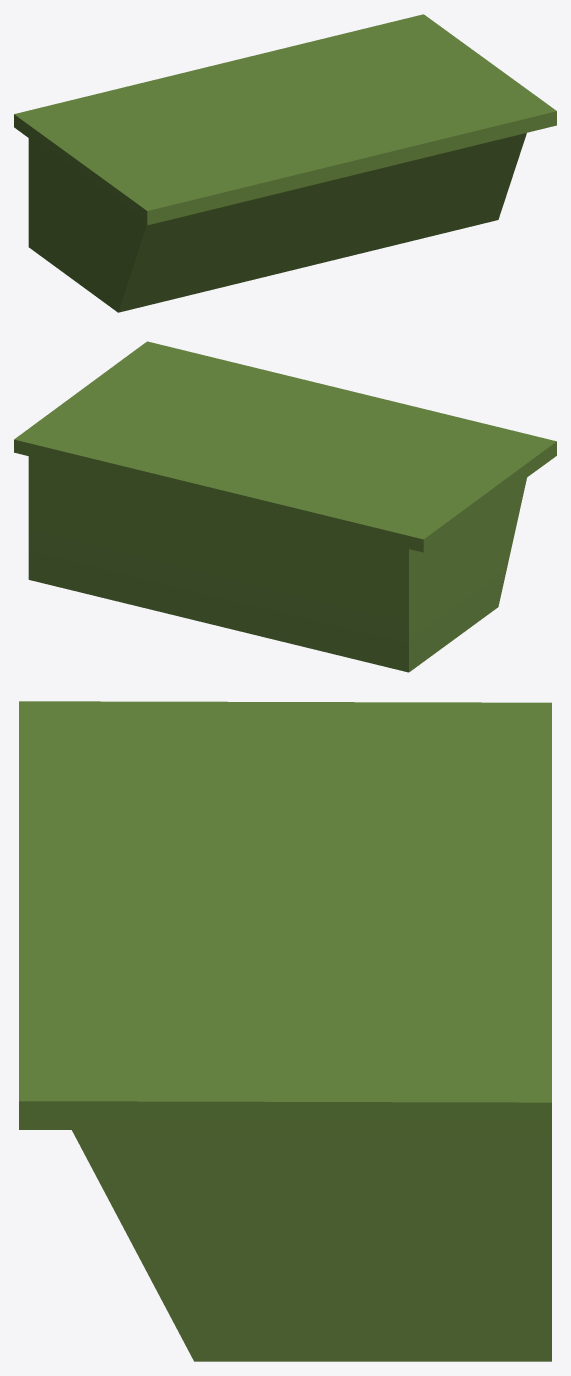
The model's file is Market_Table_01.fbx.
3 renders of one model, top to bottom at view 1: azimuth 30°, elevation 25°; view 2: azimuth 150°, elevation 25°; view 3: azimuth 270°, elevation 25°, orthographic. The views are drawn at different scales.
Parts seen in each view (by area): view 1: Market_Table_01; view 2: Market_Table_01; view 3: Market_Table_01.
Part boxes in pixels (x1,y1,x2,y2): Market_Table_01: (14,14,556,312); Market_Table_01: (14,341,556,672); Market_Table_01: (19,701,551,1361).
Bounding box in the file's own units: 2.12 × 0.6779 × 1.19.
